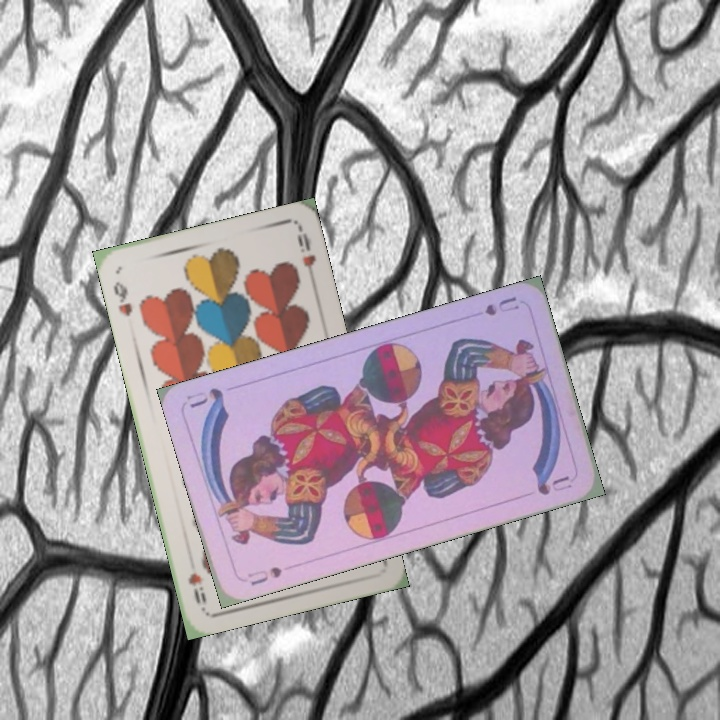H9: (109, 277, 135, 319)
SU: (480, 292, 522, 319), (243, 562, 285, 588)
